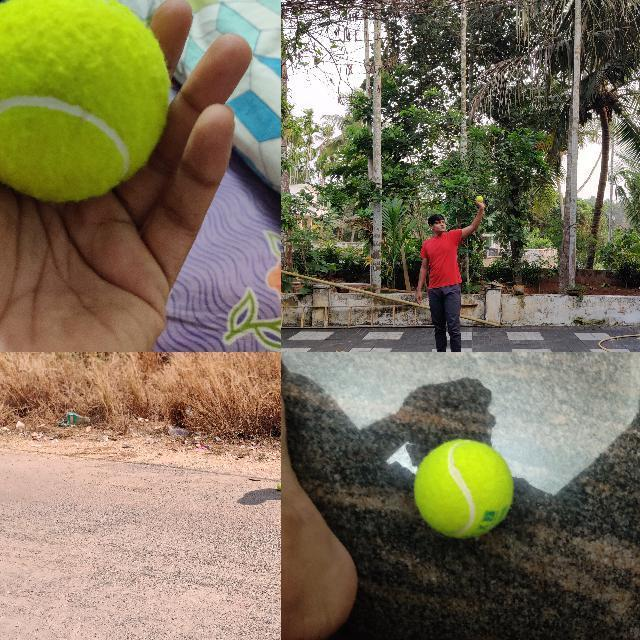tennis-ball: (0, 0, 171, 207), (414, 439, 515, 538), (477, 196, 483, 202), (277, 483, 280, 490)
